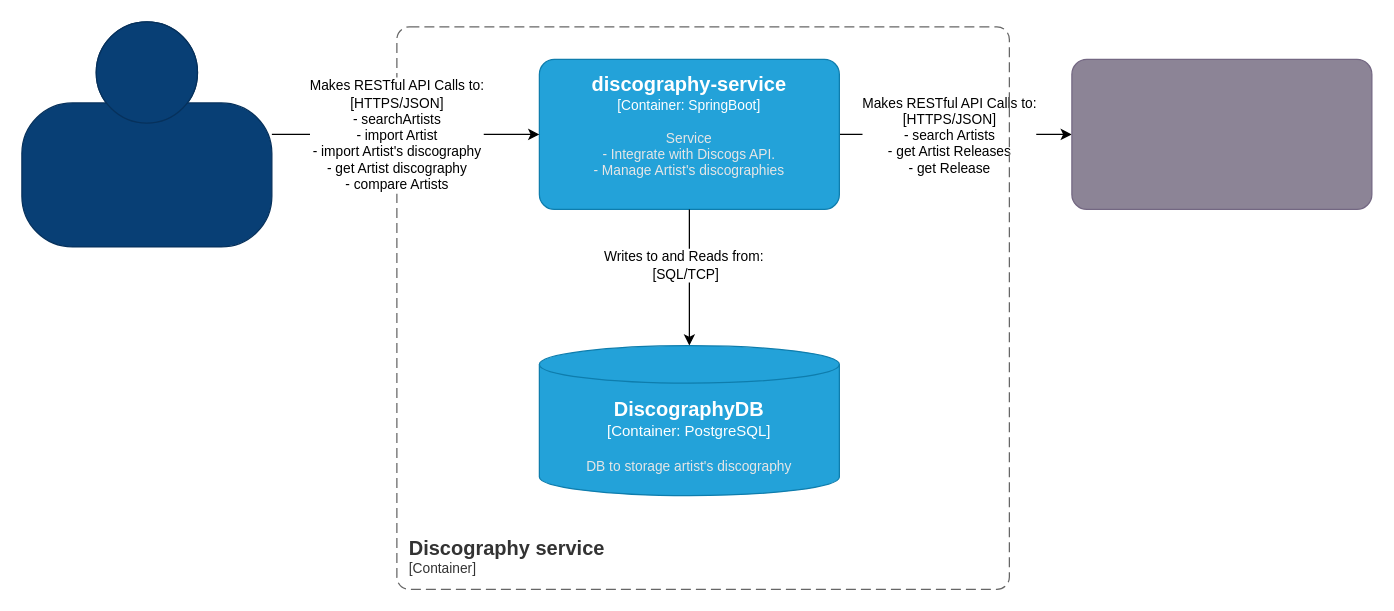
This 1394x611 diagram has some shape labels left out. The shapes that lost their labels are listed below. From the top down, each one's centre as x and y in pixels, then its label:
At (146,134): "User [Person/System] User who search and compare artists".
At (1221,133): "Discogs API [Software System] API with artists and discographies".
